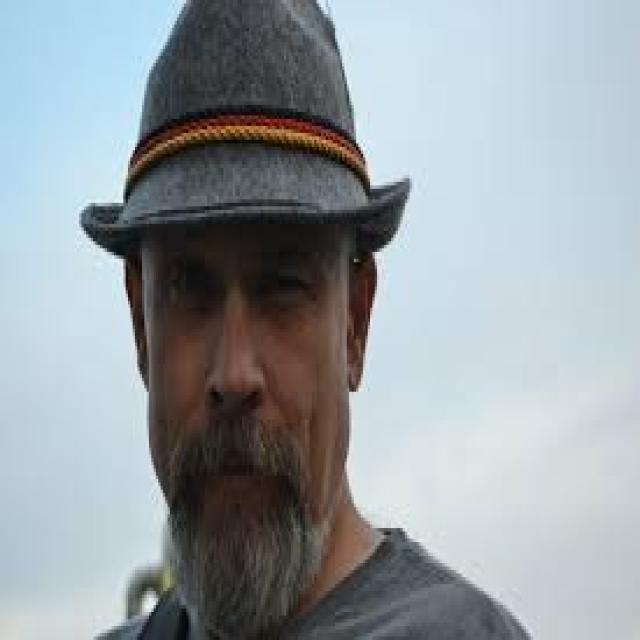hat: (77, 0, 412, 584)
